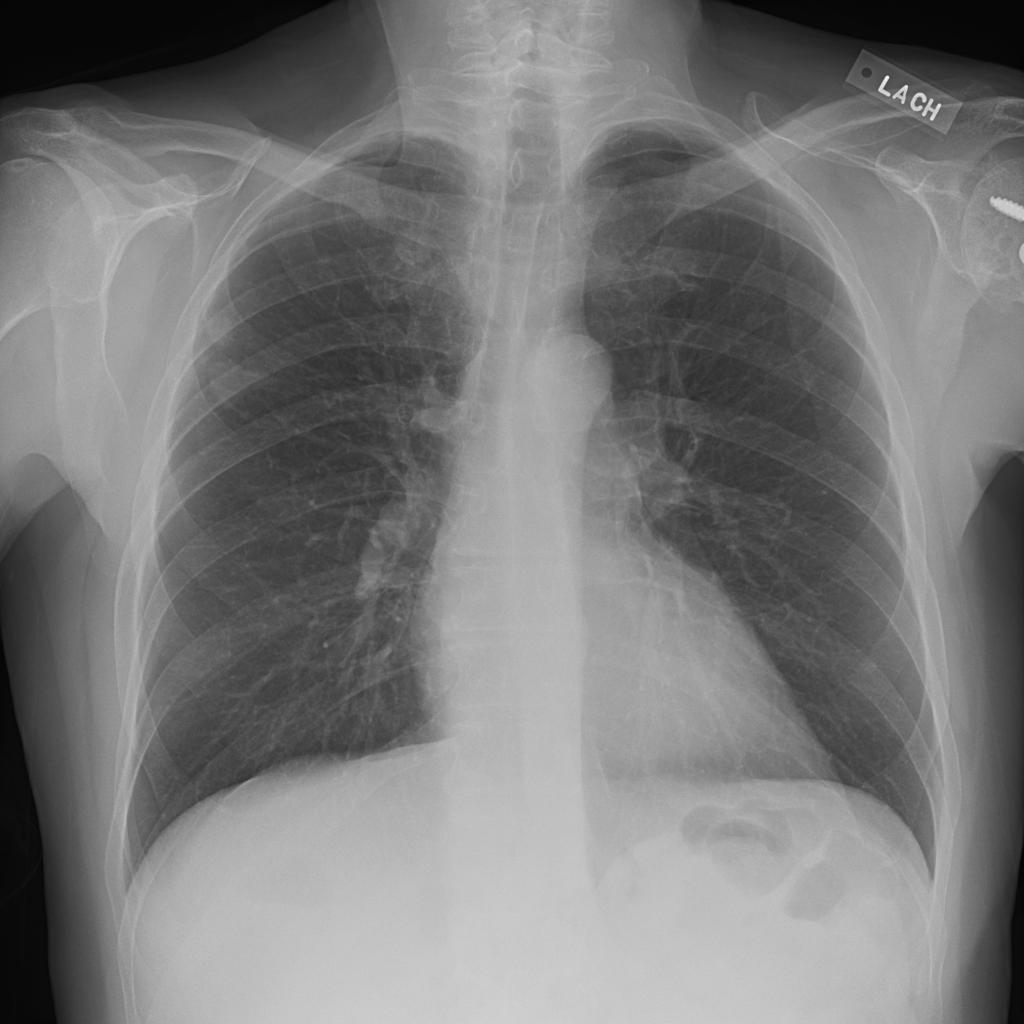Nodule: (107, 180, 135, 213)
